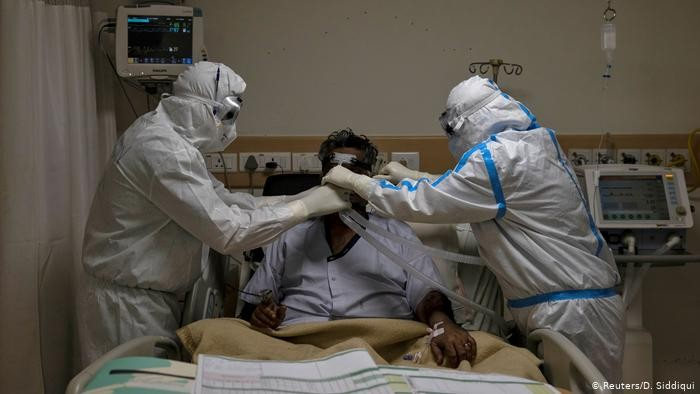Coverall: (374, 72, 631, 394), (64, 57, 318, 365)
Gloves: (317, 164, 376, 210), (290, 183, 358, 222), (371, 159, 438, 186)
Goggles: (214, 94, 241, 123)
with_mask: (220, 109, 240, 157), (446, 125, 465, 161)
